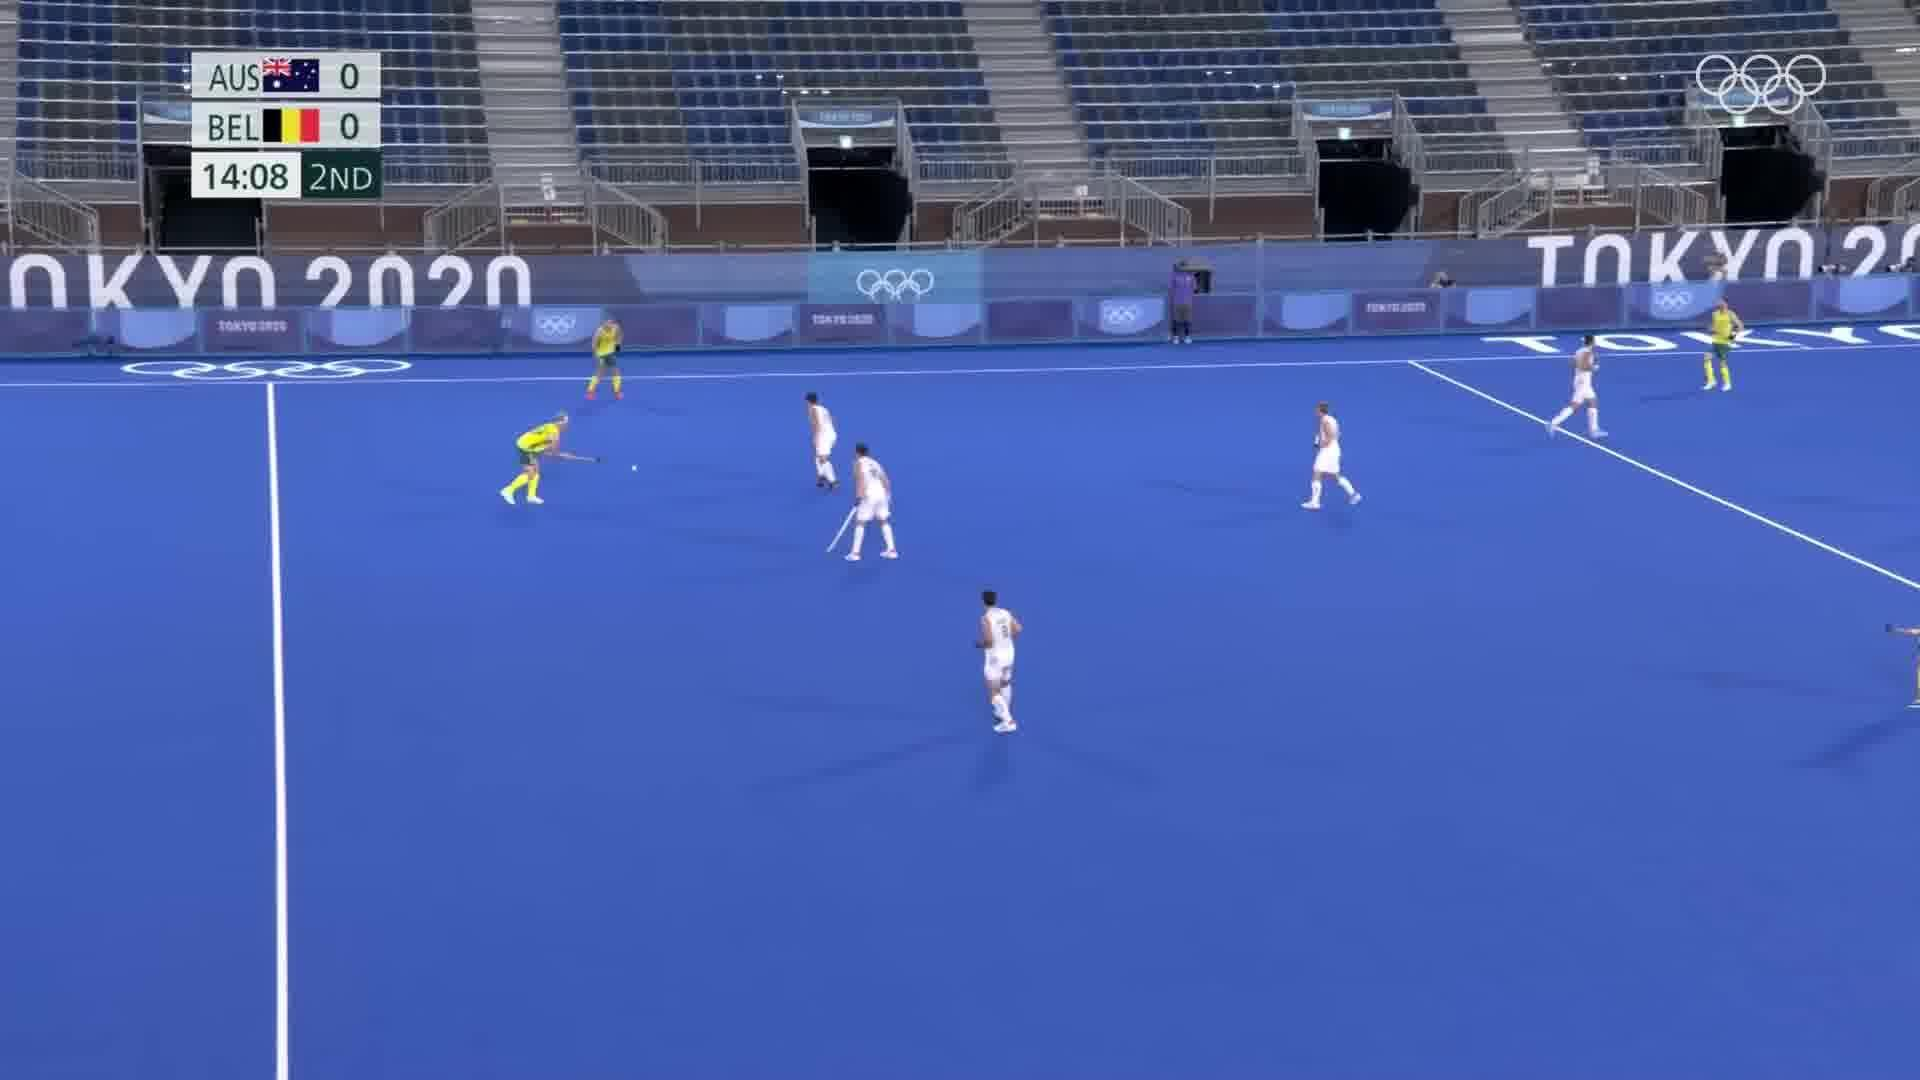ball: (625, 459, 642, 479)
